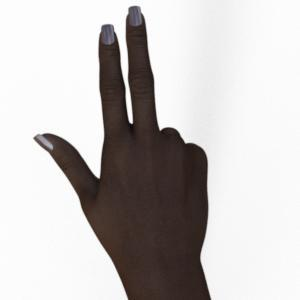scissors: (35, 7, 210, 300)
